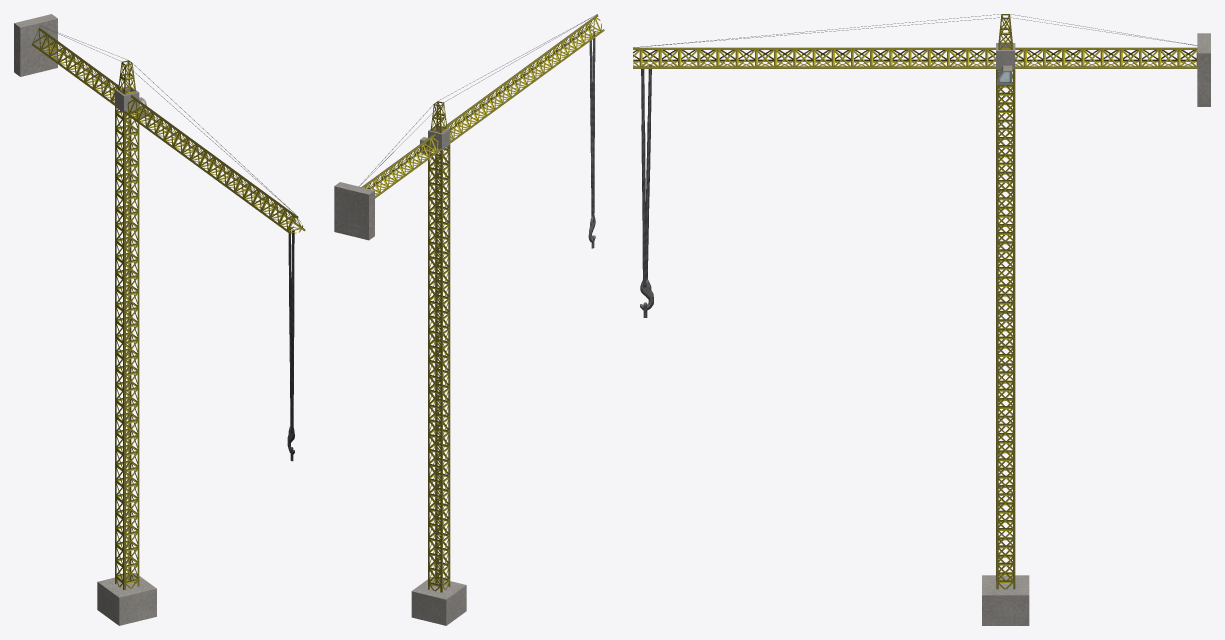
File: Crane.fbx
3 views of the same model, side by side, from view 1: azimuth 30°, elevation 25°; view 2: azimuth 150°, elevation 25°; view 3: azimuth 270°, elevation 25° (orthographic). The views are drawn at different scales.
Visible parts, largest first — view 1: Плоскость; view 2: Плоскость; view 3: Плоскость.
Part boxes in pixels (x1,y1,x2,y2): Плоскость: (14,14,305,625); Плоскость: (334,14,604,625); Плоскость: (633,14,1210,625).
Bounding box in the file's own units: 493 × 6896 × 6017.
Materials: 1 (1 with a texture image).
